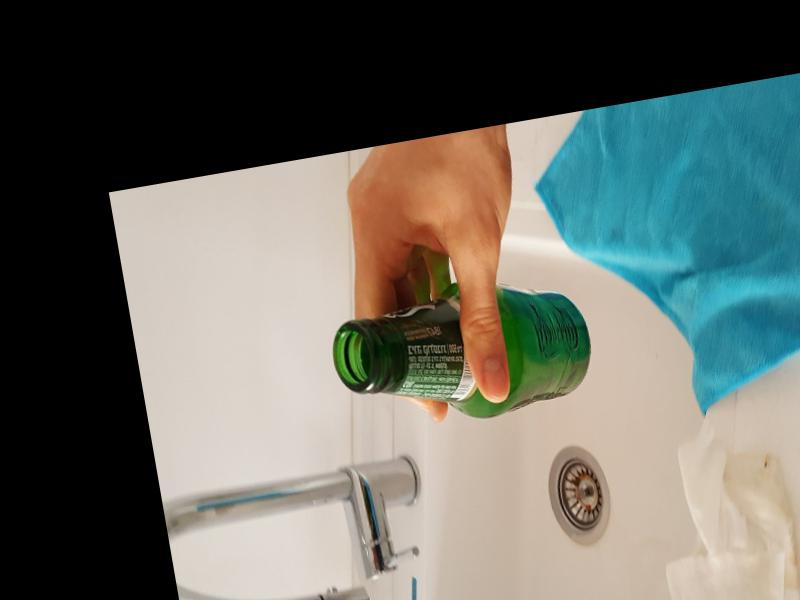Beer: (325, 264, 601, 443)
